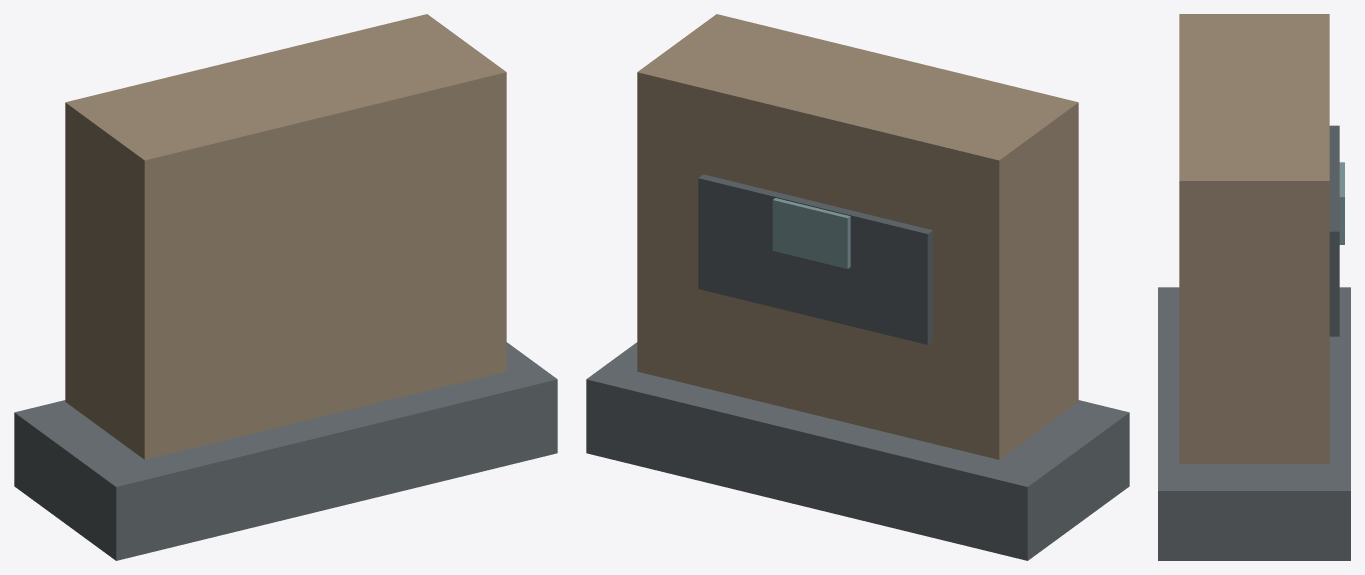
The model's file is iz3_military_infirmary_02.glb.
3 views of the same model, side by side, from view 1: azimuth 30°, elevation 25°; view 2: azimuth 150°, elevation 25°; view 3: azimuth 270°, elevation 25° (orthographic). The views are drawn at different scales.
Visible parts, largest first — view 1: cabinet, base; view 2: cabinet, base, panel, display; view 3: cabinet, base, panel, display.
Boxes of the visible parts, x1=… form: cabinet: x1=65, y1=14, x2=506, y2=459; base: x1=14, y1=342, x2=557, y2=560; cabinet: x1=637, y1=14, x2=1078, y2=459; base: x1=586, y1=342, x2=1129, y2=560; panel: x1=698, y1=174, x2=932, y2=344; display: x1=772, y1=198, x2=850, y2=268; cabinet: x1=1179, y1=14, x2=1329, y2=463; base: x1=1158, y1=287, x2=1350, y2=560; panel: x1=1329, y1=125, x2=1339, y2=336; display: x1=1339, y1=162, x2=1344, y2=244.
Size of the model in its own units: 2 by 1.66 by 0.8.
